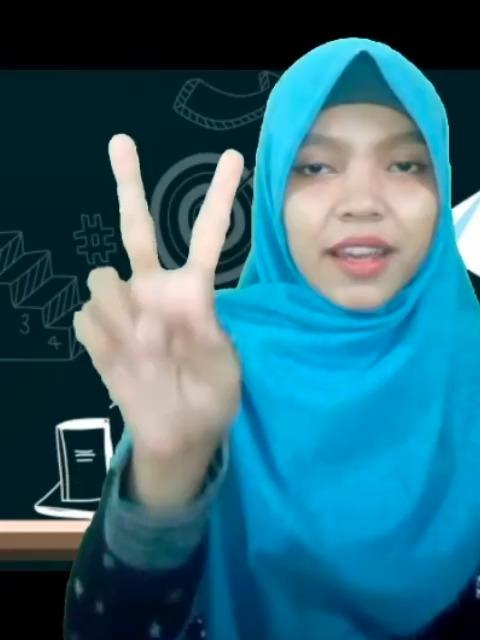V: (66, 132, 248, 464)
